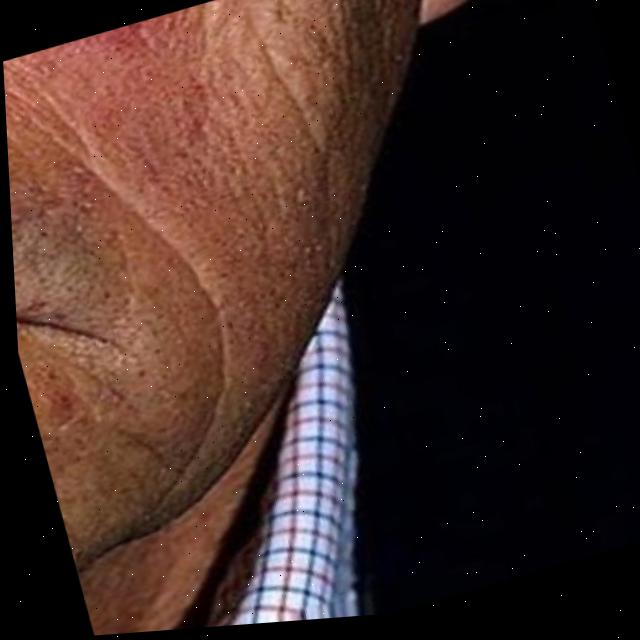Rosacea: (71, 2, 240, 188)
